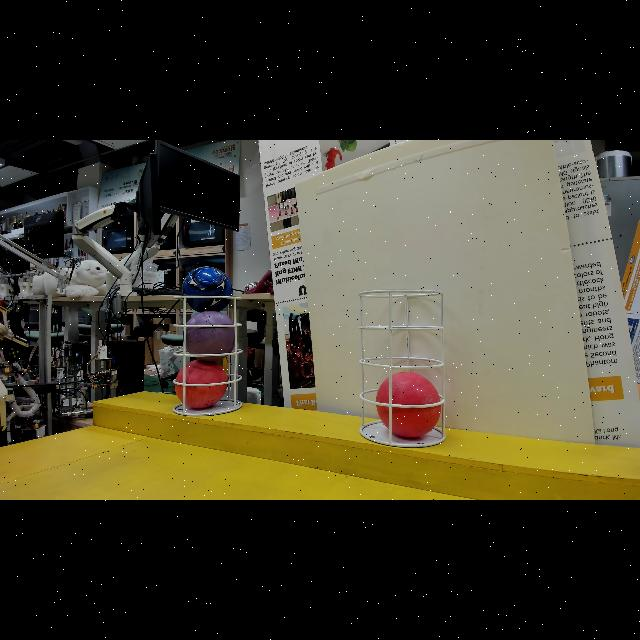B: (179, 264, 235, 316)
P: (182, 310, 238, 362)
R: (374, 370, 442, 440), (172, 356, 228, 410)
S: (356, 287, 446, 448), (170, 291, 244, 419)
